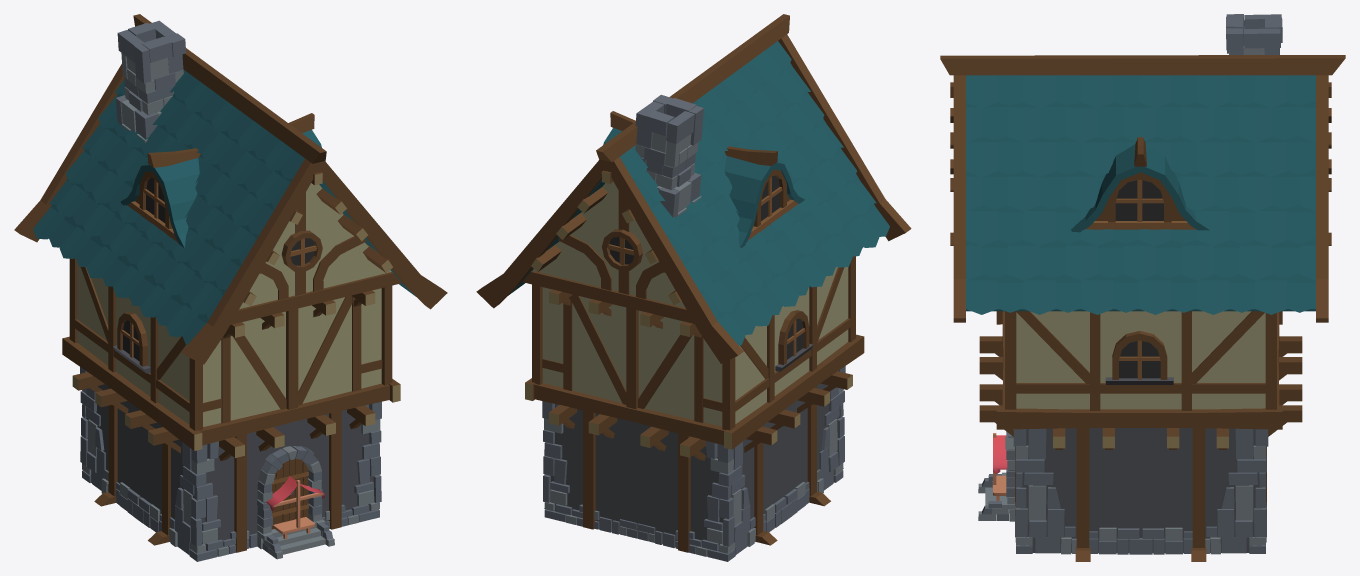
The model's file is london_house_merchant.glb.
3 views of the same model, side by side, from view 1: azimuth 30°, elevation 25°; view 2: azimuth 150°, elevation 25°; view 3: azimuth 270°, elevation 25° (orthographic). The views are drawn at different scales.
Visible parts, largest first — view 1: House_1, stall-red; view 2: House_1; view 3: House_1, stall-red.
Part boxes in pixels (x1,y1,x2,y2): House_1: (14, 14, 447, 561); stall-red: (266, 476, 324, 539); House_1: (476, 14, 911, 561); House_1: (940, 14, 1345, 561); stall-red: (993, 433, 1007, 500).
Size of the model in its own units: 10.72 by 16.95 by 13.29.
11 materials, 2 textured.
